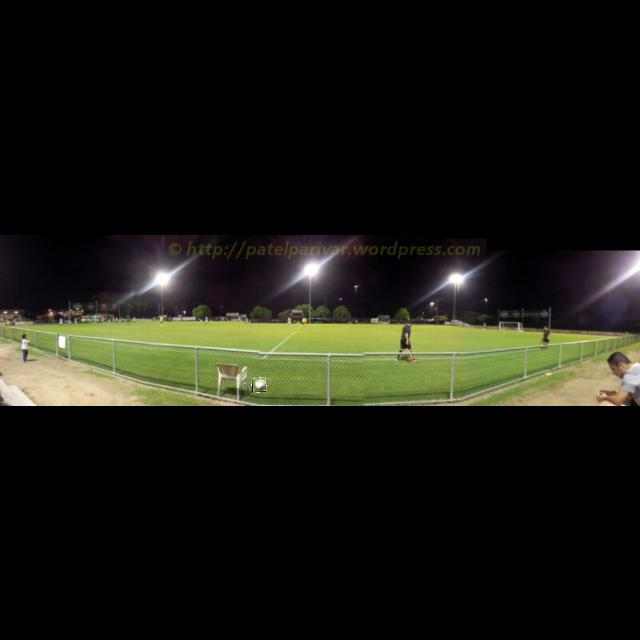Football: (252, 378, 266, 392)
